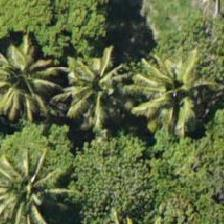coconut_tree: (52, 39, 142, 129), (129, 57, 219, 147), (0, 25, 68, 115), (0, 148, 65, 223)
